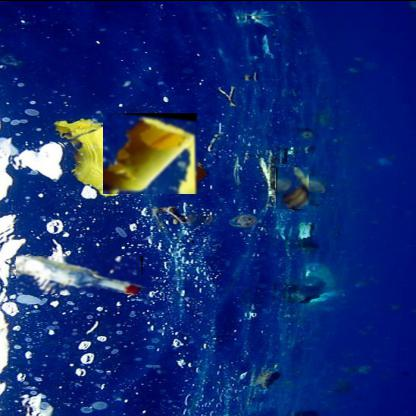bottle: (103, 111, 200, 193), (16, 254, 144, 292)
waste: (276, 165, 310, 208)
